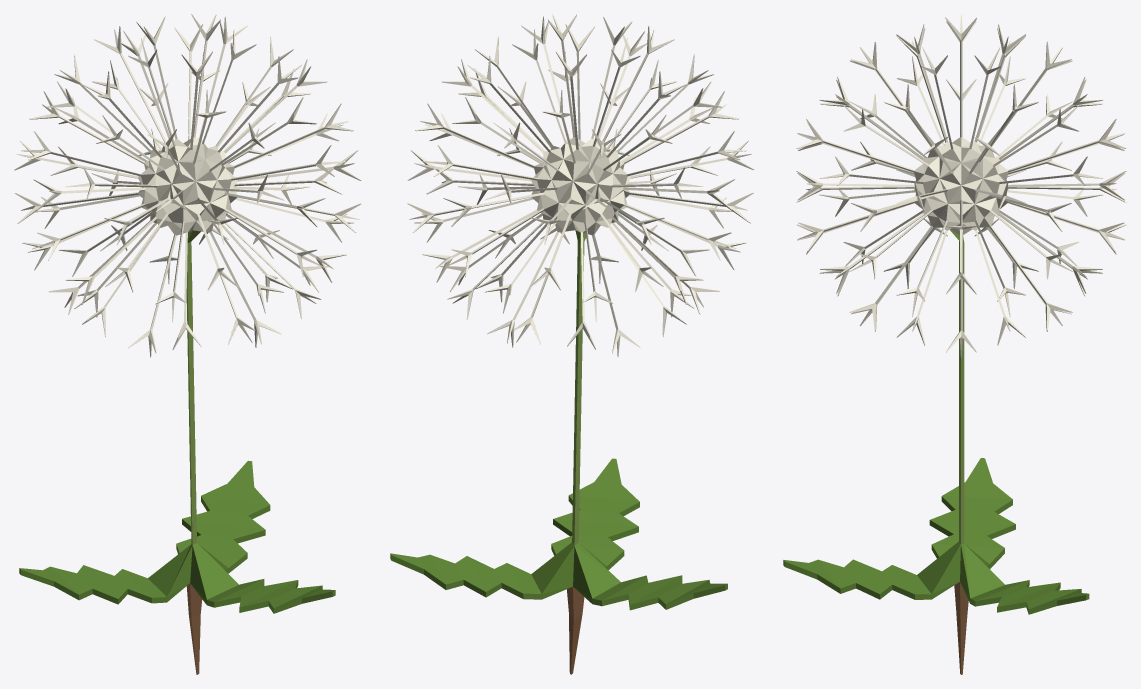
Rendered from NEW_RECOVERY_131_LOD0.glb.
The picture shows the model from 3 angles, left to right: view 1: azimuth 30°, elevation 25°; view 2: azimuth 150°, elevation 25°; view 3: azimuth 270°, elevation 25°; orthographic projection.
Visible parts, largest first — view 1: Dandelion; view 2: Dandelion; view 3: Dandelion.
Boxes of the visible parts, x1,y1,x2,y2 form: Dandelion: [14, 14, 361, 674]; Dandelion: [390, 14, 754, 674]; Dandelion: [783, 14, 1126, 674].
Size of the model in its own units: 0.8107 by 1.61 by 0.7917.
